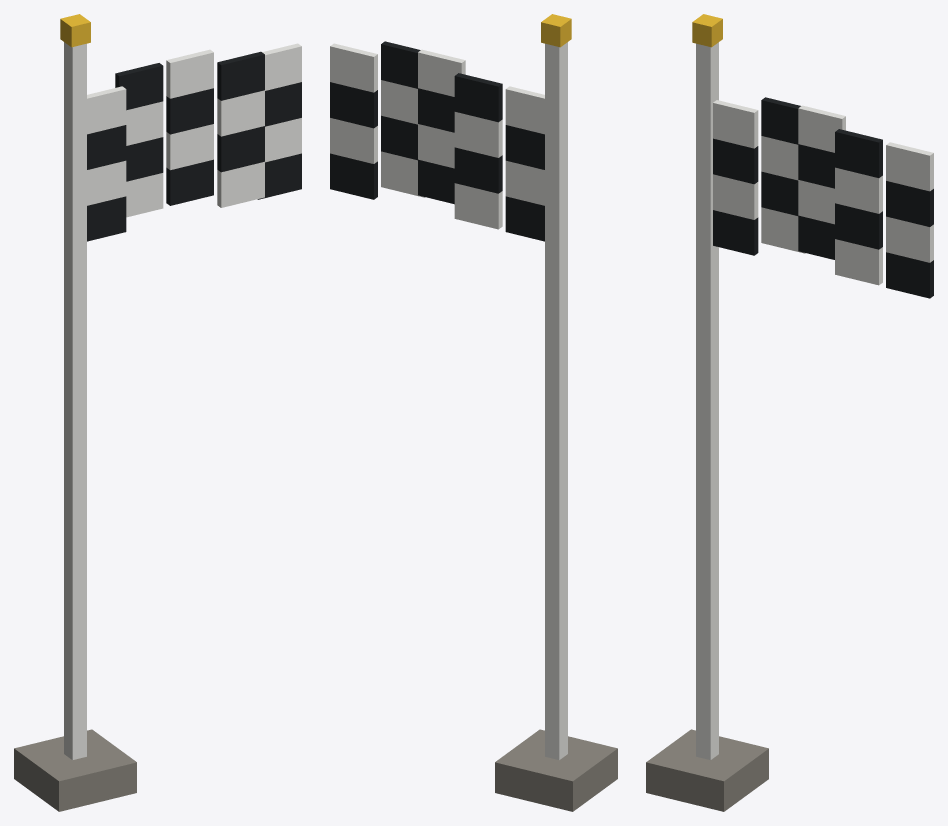
File: flagPole.glb
3 renders of one model, left to right at view 1: azimuth 30°, elevation 25°; view 2: azimuth 150°, elevation 25°; view 3: azimuth 330°, elevation 25°, orthographic.
Parts seen in each view (by area): view 1: flagPole_white, flagPole_black, flagPole_concreteDark, flagPole_yellow; view 2: flagPole_white, flagPole_black, flagPole_concreteDark, flagPole_yellow; view 3: flagPole_white, flagPole_black, flagPole_concreteDark, flagPole_yellow.
Boxes of the visible parts, box(x1,y1,x2,y2) form: flagPole_white: box(64, 42, 301, 760); flagPole_black: box(87, 51, 301, 241); flagPole_concreteDark: box(14, 729, 136, 811); flagPole_yellow: box(60, 14, 90, 47); flagPole_white: box(330, 42, 567, 760); flagPole_black: box(330, 41, 544, 241); flagPole_concreteDark: box(495, 729, 617, 811); flagPole_yellow: box(541, 14, 571, 47); flagPole_white: box(696, 42, 933, 759); flagPole_black: box(713, 97, 933, 298); flagPole_concreteDark: box(646, 729, 768, 811); flagPole_yellow: box(692, 14, 722, 47).
Bounding box in the file's own units: 5.4 × 15 × 1.6.
